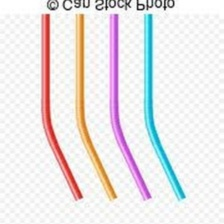drinking_straw: (135, 11, 189, 206), (34, 11, 85, 207), (104, 11, 154, 207), (70, 12, 119, 208)
